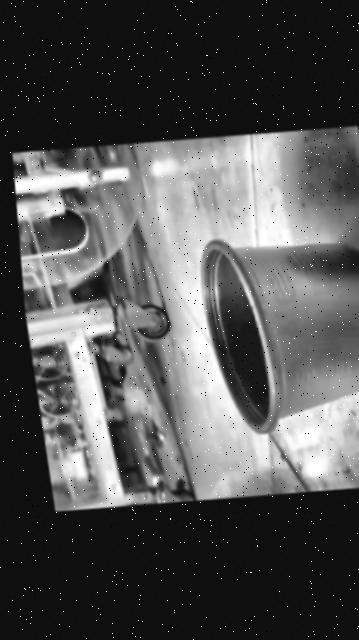pot: (191, 225, 359, 433)
